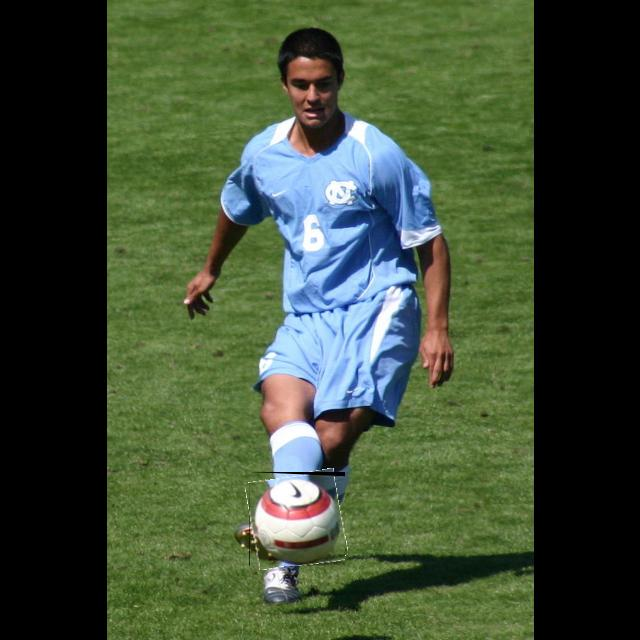Football: (249, 472, 345, 566)
